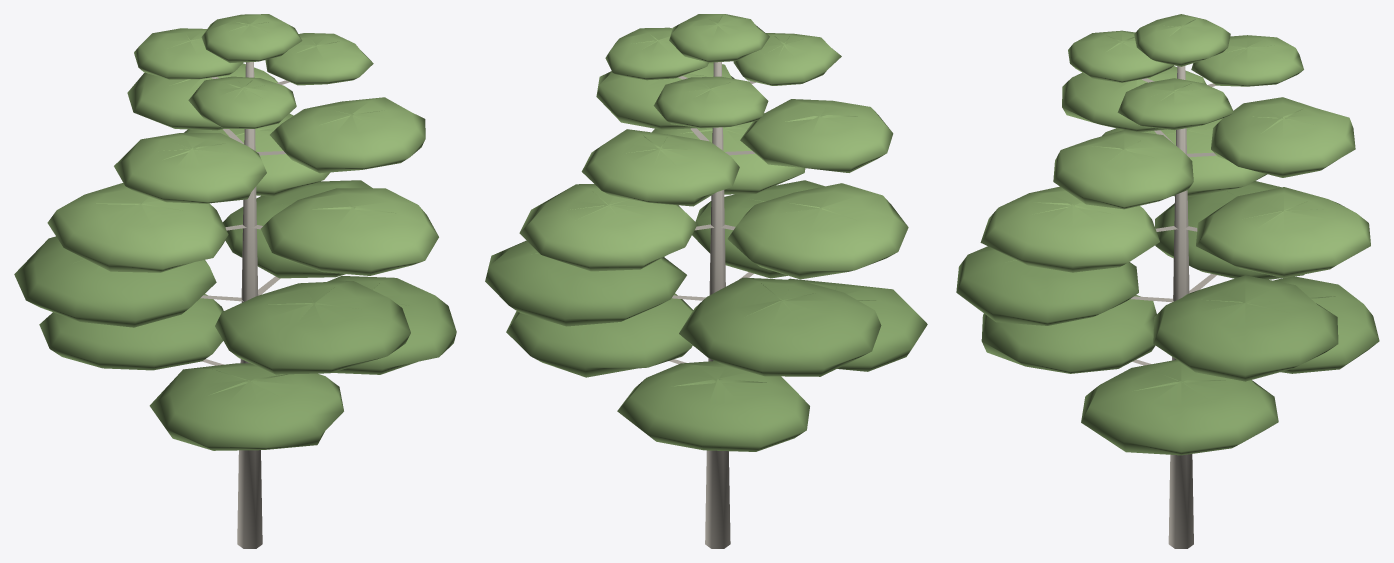
The model's file is terminalia-mid.glb.
The picture shows the model from 3 angles, left to right: view 1: azimuth 30°, elevation 25°; view 2: azimuth 150°, elevation 25°; view 3: azimuth 270°, elevation 25°; orthographic projection.
Parts seen in each view (by area): view 1: terminalia-mid_canopy_terminalia, terminalia-mid_canopy_terminalia_shade, terminalia-mid_canopy_bark_pale; view 2: terminalia-mid_canopy_terminalia, terminalia-mid_canopy_terminalia_shade, terminalia-mid_canopy_bark_pale; view 3: terminalia-mid_canopy_terminalia, terminalia-mid_canopy_terminalia_shade, terminalia-mid_canopy_bark_pale.
Boxes of the visible parts, x1,y1,x2,y2 form: terminalia-mid_canopy_terminalia: (47, 14, 438, 275); terminalia-mid_canopy_terminalia_shade: (14, 180, 456, 450); terminalia-mid_canopy_bark_pale: (200, 62, 289, 548); terminalia-mid_canopy_terminalia: (519, 14, 908, 279); terminalia-mid_canopy_terminalia_shade: (485, 180, 927, 451); terminalia-mid_canopy_bark_pale: (669, 62, 756, 548); terminalia-mid_canopy_terminalia: (980, 14, 1370, 278); terminalia-mid_canopy_terminalia_shade: (956, 181, 1379, 455); terminalia-mid_canopy_bark_pale: (1130, 66, 1216, 548).
Size of the model in its own units: 11.96 by 15.35 by 11.36.
